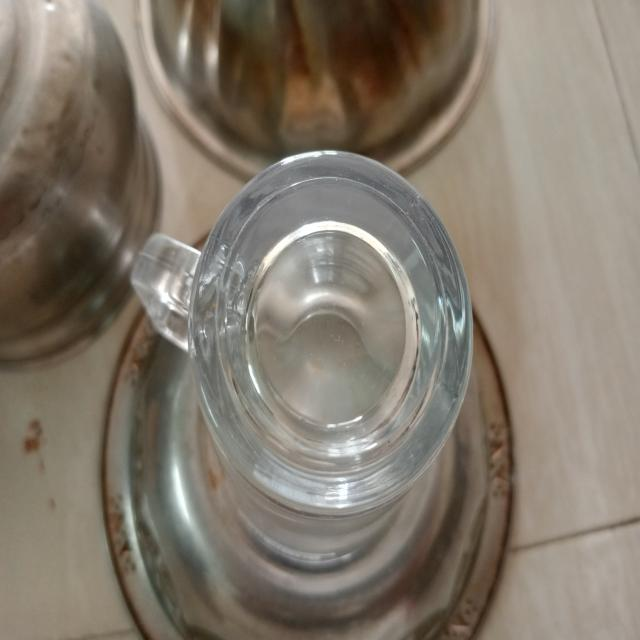glass-VX4N: (132, 145, 474, 522)
